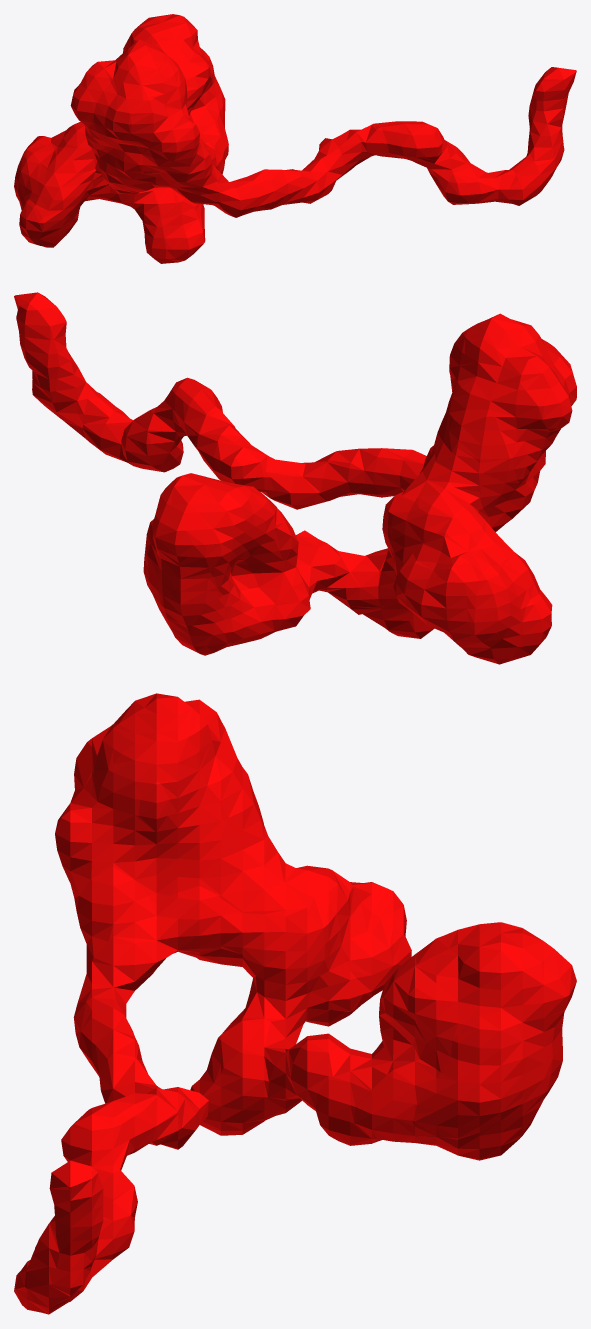
The model's file is rpoS_coarse.dae.
The picture shows the model from 3 angles, top to bottom: view 1: azimuth 30°, elevation 25°; view 2: azimuth 150°, elevation 25°; view 3: azimuth 270°, elevation 25°; orthographic projection. The views are drawn at different scales.
Visible parts, largest first — view 1: rpoS; view 2: rpoS; view 3: rpoS.
Boxes of the visible parts, x1,y1,x2,y2 form: rpoS: (14,14,576,263); rpoS: (14,292,576,664); rpoS: (14,693,576,1314).
Size of the model in its own units: 150 by 72.61 by 93.23.
